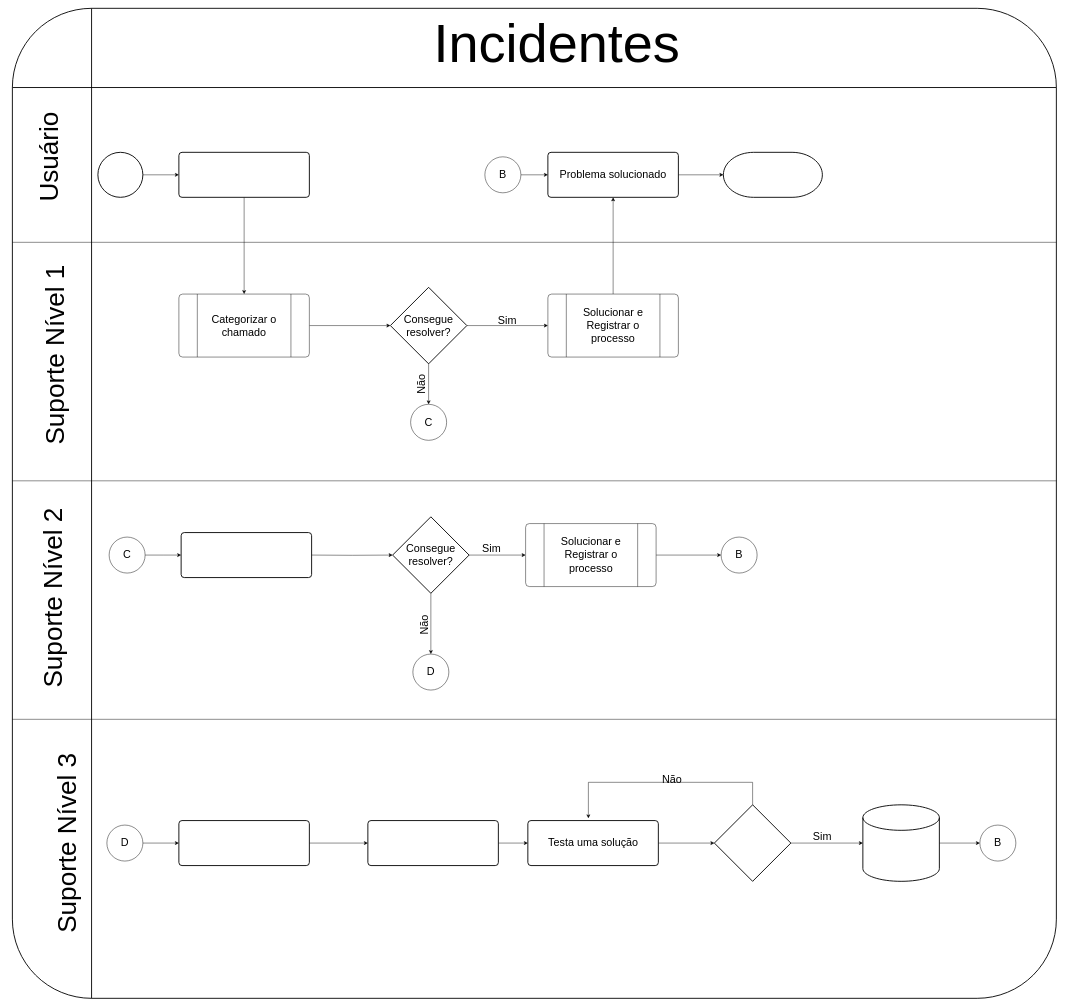
Image size: 1065x1006. Some labels were removed from this diagram. Each missing label, with the centre of its shape:
"Abre um chamado" goes at (244,175).
"Busca o erro" goes at (433,843).
"Fim" goes at (773,175).
"Problema de nível 2" goes at (246,555).
"Problema de nível 3" goes at (244,843).
"Registra o processo" goes at (901,843).
"Solucionou?" goes at (752,843).
